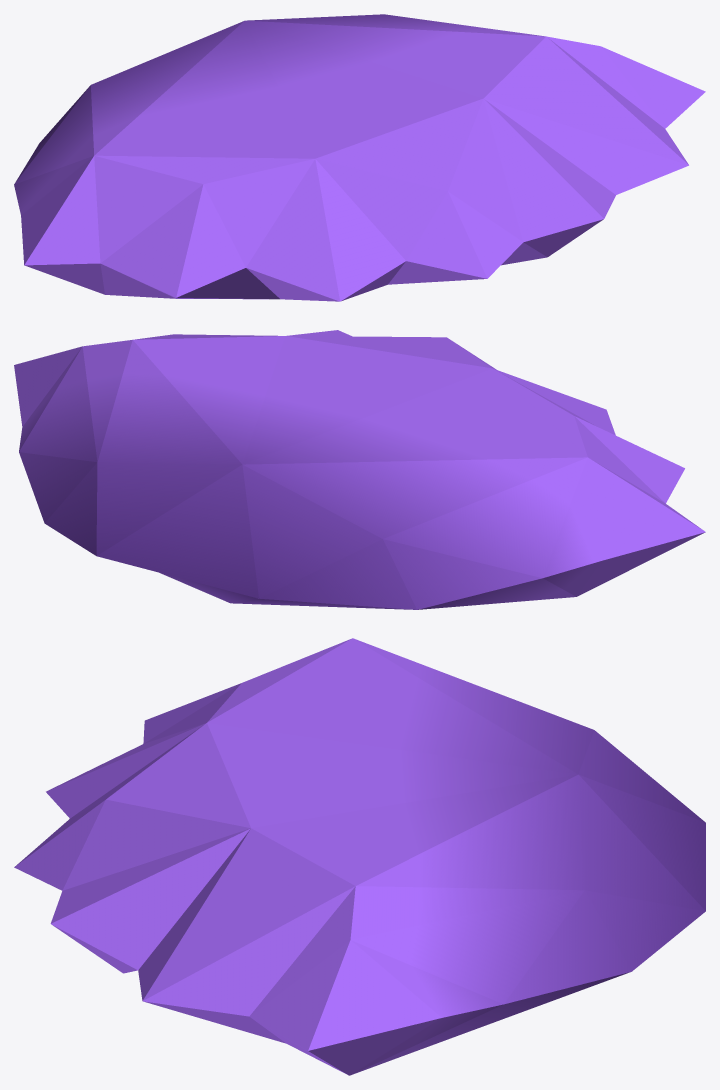
The model's file is SM_Shell_1.fbx.
3 renders of one model, top to bottom at view 1: azimuth 30°, elevation 25°; view 2: azimuth 150°, elevation 25°; view 3: azimuth 270°, elevation 25°, orthographic. The views are drawn at different scales.
Visible parts, largest first — view 1: Shell_1; view 2: Shell_1; view 3: Shell_1.
Part boxes in pixels (bbox=[...]): Shell_1: bbox=[14, 14, 705, 301]; Shell_1: bbox=[14, 330, 705, 609]; Shell_1: bbox=[14, 638, 705, 1075].
Bounding box in the file's own units: 34 × 7.25 × 25.57.
